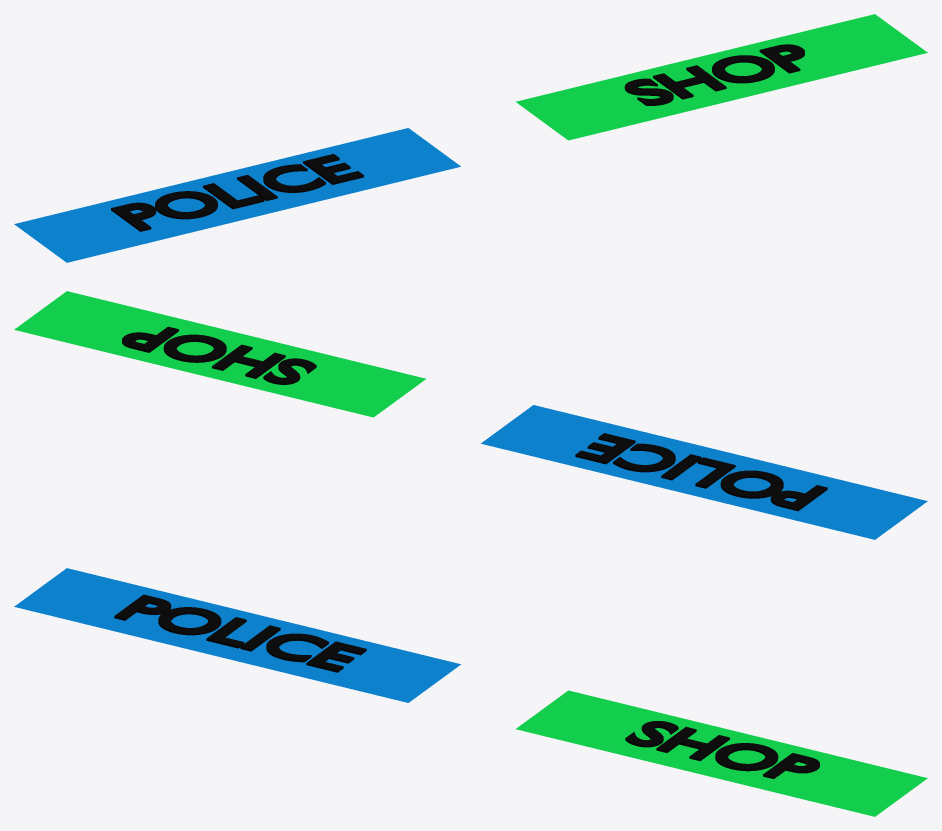
File: banner.fbx
The picture shows the model from 3 angles, top to bottom: view 1: azimuth 30°, elevation 25°; view 2: azimuth 150°, elevation 25°; view 3: azimuth 330°, elevation 25°; orthographic projection.
Visible parts, largest first — view 1: Plane, Plane.001, Text.001, Text.002; view 2: Plane, Plane.001, Text.001, Text.002; view 3: Plane, Plane.001, Text.001, Text.002.
Part boxes in pixels (box(x1,y1,x2,y2)): Plane: box(14, 128, 460, 262); Plane.001: box(515, 14, 927, 140); Text.001: box(111, 154, 363, 231); Text.002: box(624, 44, 804, 105); Plane: box(481, 405, 927, 539); Plane.001: box(14, 291, 426, 417); Text.001: box(575, 433, 827, 511); Text.002: box(122, 326, 316, 384); Plane: box(14, 568, 460, 702); Plane.001: box(515, 690, 927, 816); Text.001: box(114, 594, 366, 672); Text.002: box(625, 721, 819, 778).
Bounding box in the file's own units: 1248 × 3 × 133.
